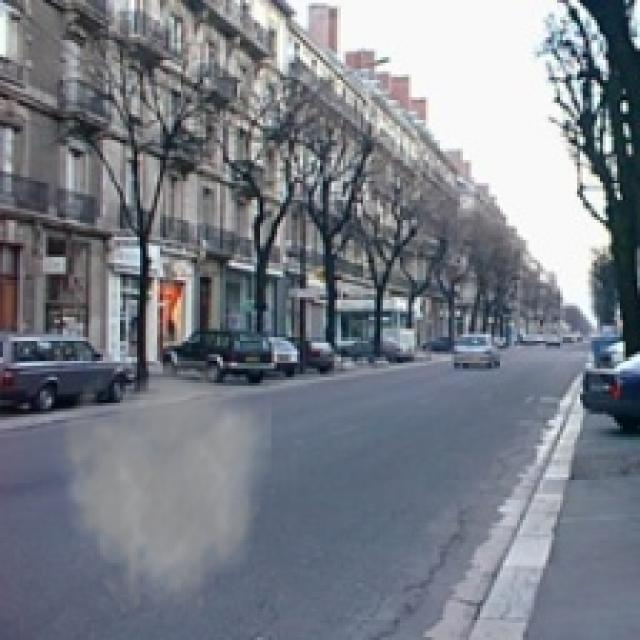Smoke: (45, 348, 272, 620)
